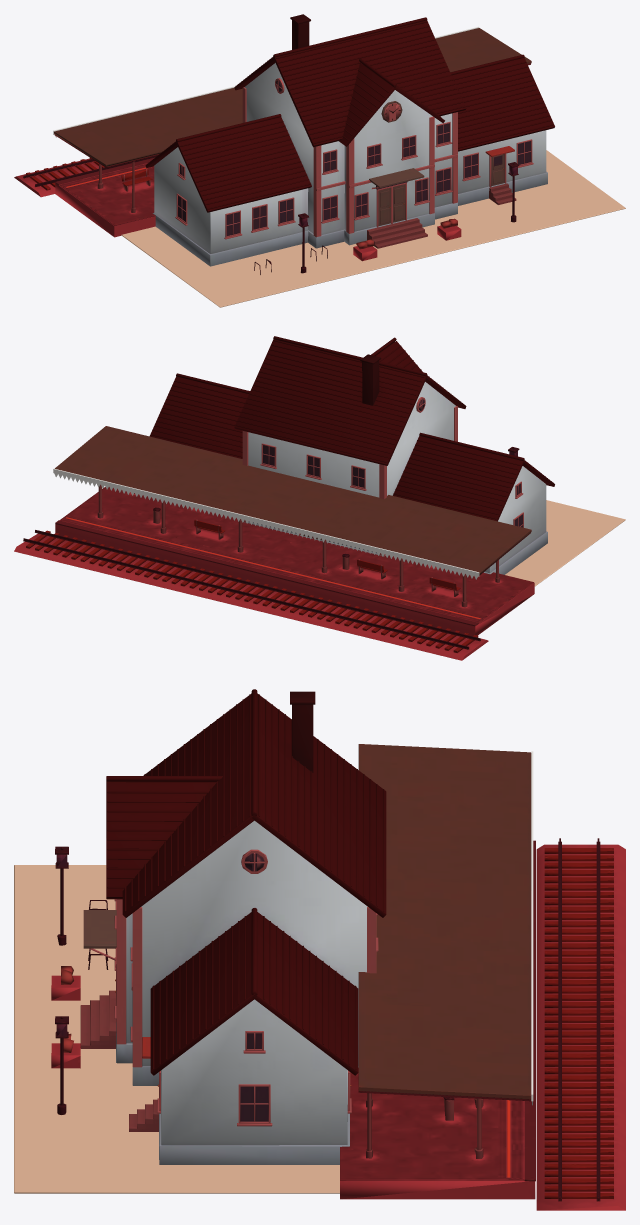
File: train-station.glb
3 views of the same model, one above another, from view 1: azimuth 30°, elevation 25°; view 2: azimuth 150°, elevation 25°; view 3: azimuth 270°, elevation 25° (orthographic). The views are drawn at different scales.
Parts seen in each view (by area): view 1: train-station_roof, train-station_shell, train-station_body, train-station_ground_slab, train-station_facade, train-station_valance; view 2: train-station_body, train-station_roof, train-station_shell, train-station_ground_slab, train-station_valance, train-station_facade; view 3: train-station_body, train-station_roof, train-station_shell, train-station_ground_slab, train-station_facade, train-station_valance.
Boxes of the visible parts, x1=… form: train-station_roof: x1=145, y1=14, x2=554, y2=212; train-station_shell: x1=152, y1=63, x2=547, y2=266; train-station_body: x1=14, y1=28, x2=531, y2=274; train-station_ground_slab: x1=121, y1=150, x2=625, y2=307; train-station_facade: x1=175, y1=78, x2=533, y2=248; train-station_valance: x1=53, y1=26, x2=479, y2=137; train-station_body: x1=14, y1=426, x2=534, y2=660; train-station_roof: x1=149, y1=336, x2=554, y2=521; train-station_shell: x1=244, y1=382, x2=547, y2=574; train-station_ground_slab: x1=505, y1=500, x2=625, y2=586; train-station_valance: x1=53, y1=468, x2=479, y2=579; train-station_facade: x1=242, y1=397, x2=523, y2=555; train-station_body: x1=51, y1=744, x2=625, y2=1210; train-station_roof: x1=106, y1=689, x2=386, y2=1075; train-station_shell: x1=116, y1=820, x2=367, y2=1164; train-station_ground_slab: x1=14, y1=865, x2=339, y2=1193; train-station_facade: x1=80, y1=849, x2=378, y2=1131; train-station_valance: x1=531, y1=751, x2=533, y2=1105.
Bounding box in the file's own units: 32 × 12.6 × 22.9.
Materials: 6 (4 with a texture image).
